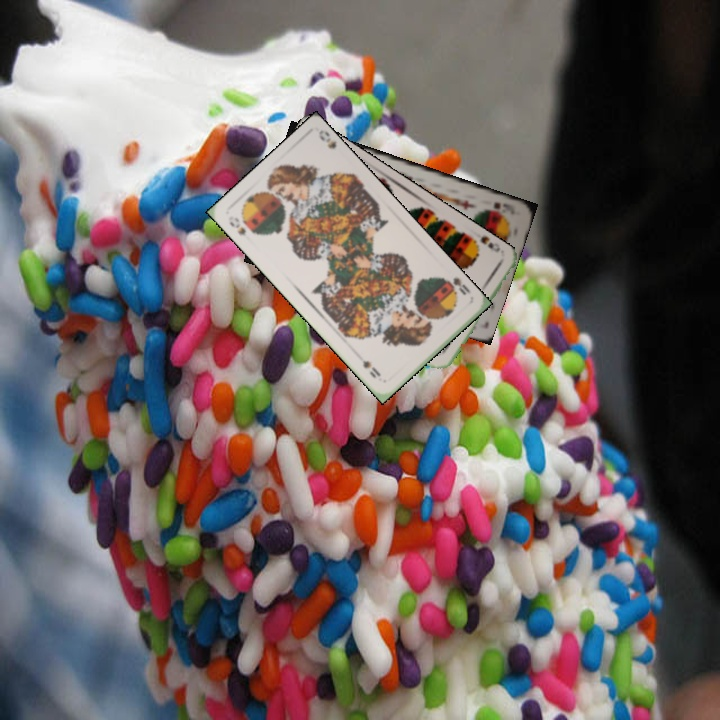S9: (466, 233, 503, 255)
SK: (490, 198, 518, 217)
SO: (437, 273, 474, 298), (225, 213, 249, 239)
